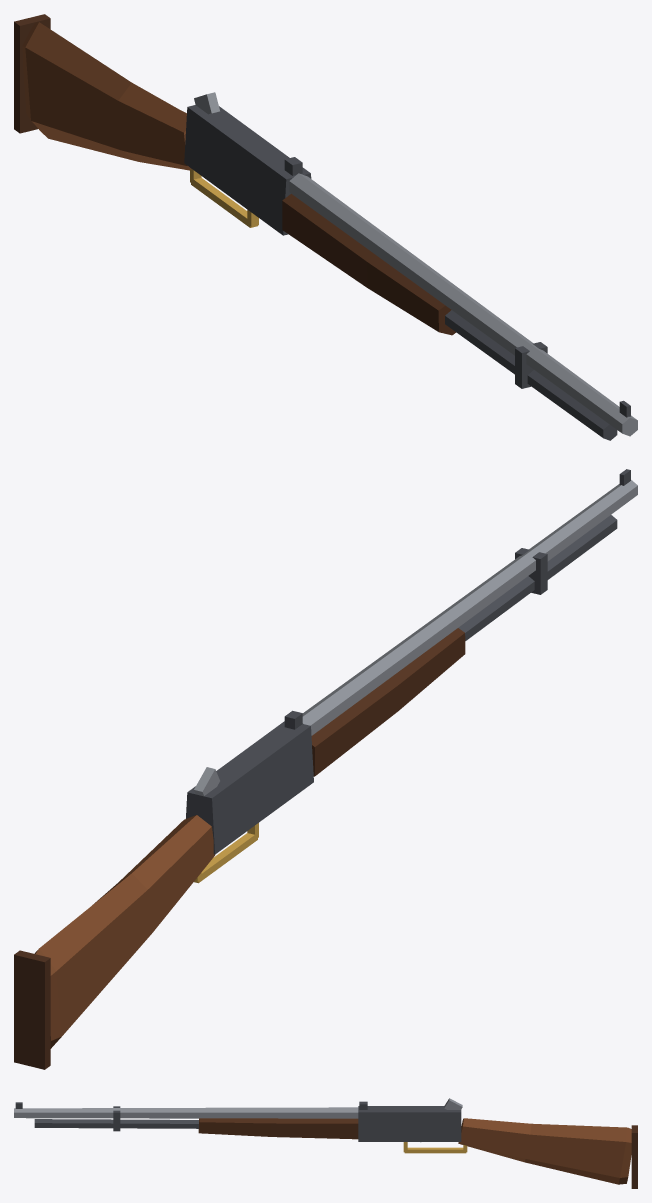
The model's file is SM_Rifle.fbx.
3 renders of one model, top to bottom at view 1: azimuth 30°, elevation 25°; view 2: azimuth 150°, elevation 25°; view 3: azimuth 270°, elevation 25°, orthographic. The views are drawn at different scales.
Parts seen in each view (by area): view 1: Prop_Rifle; view 2: Prop_Rifle; view 3: Prop_Rifle.
Boxes of the visible parts, x1=… form: Prop_Rifle: x1=14, y1=14, x2=637, y2=440; Prop_Rifle: x1=14, y1=469, x2=637, y2=1069; Prop_Rifle: x1=14, y1=1098, x2=637, y2=1188.
Size of the model in its own units: 4.77 by 152 by 23.02.
